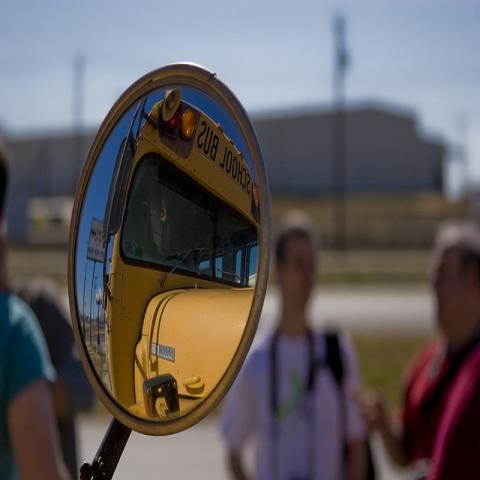bus: (98, 87, 260, 424)
